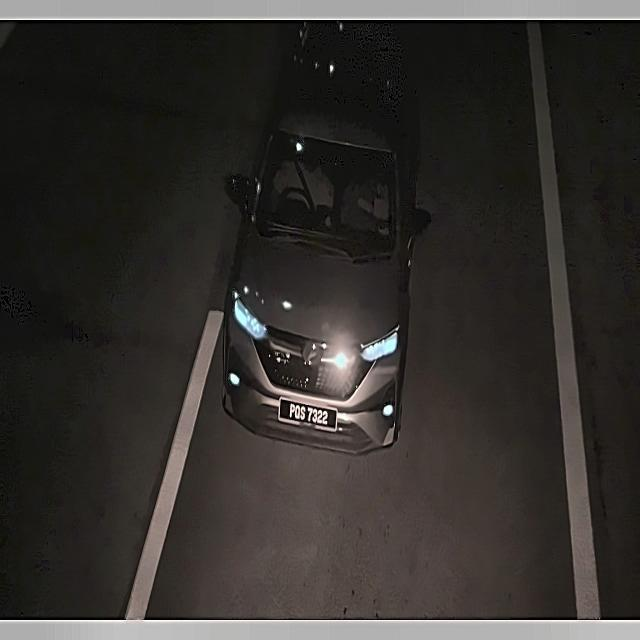car: (272, 396, 347, 435)
